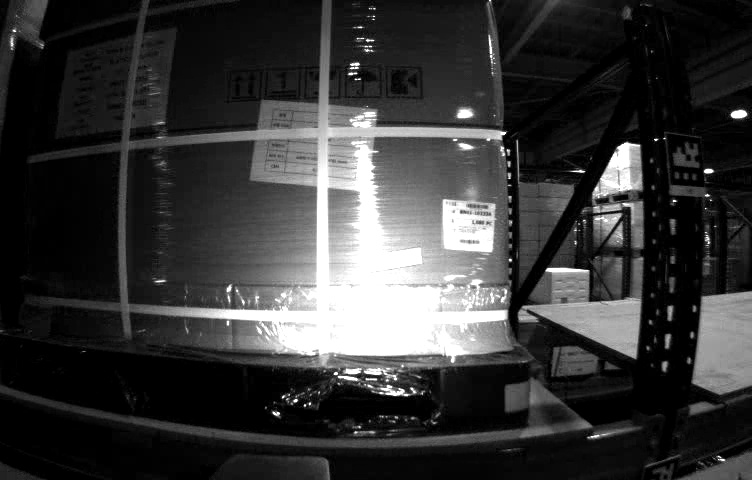True Barcode: (440, 197, 496, 252)
